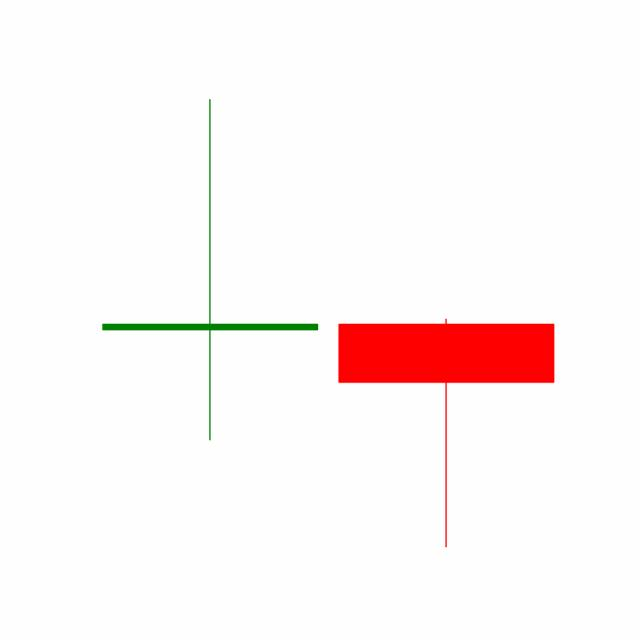Hammer: (327, 315, 565, 550)
